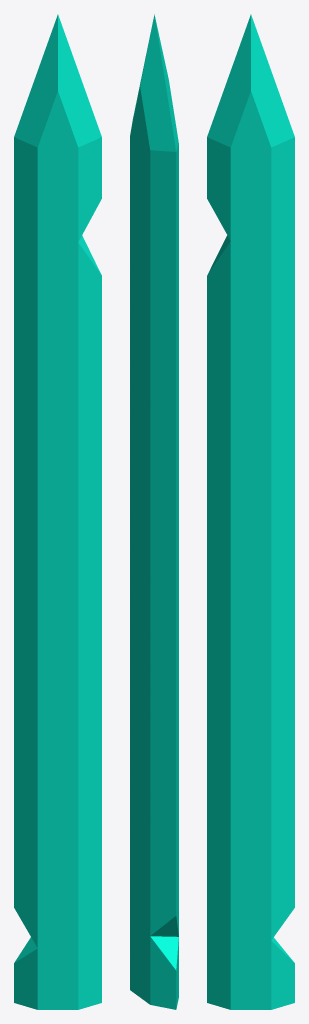
The model's file is LaserSaber.fbx.
The picture shows the model from 3 angles, left to right: view 1: azimuth 90°, elevation 25°; view 2: azimuth 210°, elevation 25°; view 3: azimuth 270°, elevation 25°; orthographic projection.
Parts seen in each view (by area): view 1: SM_Wep_Sword_01a.001; view 2: SM_Wep_Sword_01a.001; view 3: SM_Wep_Sword_01a.001.
Boxes of the visible parts, x1=… form: SM_Wep_Sword_01a.001: x1=14, y1=14, x2=101, y2=1009; SM_Wep_Sword_01a.001: x1=130, y1=14, x2=178, y2=1009; SM_Wep_Sword_01a.001: x1=207, y1=14, x2=294, y2=1009.
Size of the model in its own units: 1.87 by 60.9 by 4.91.
1 material, 1 textured.
